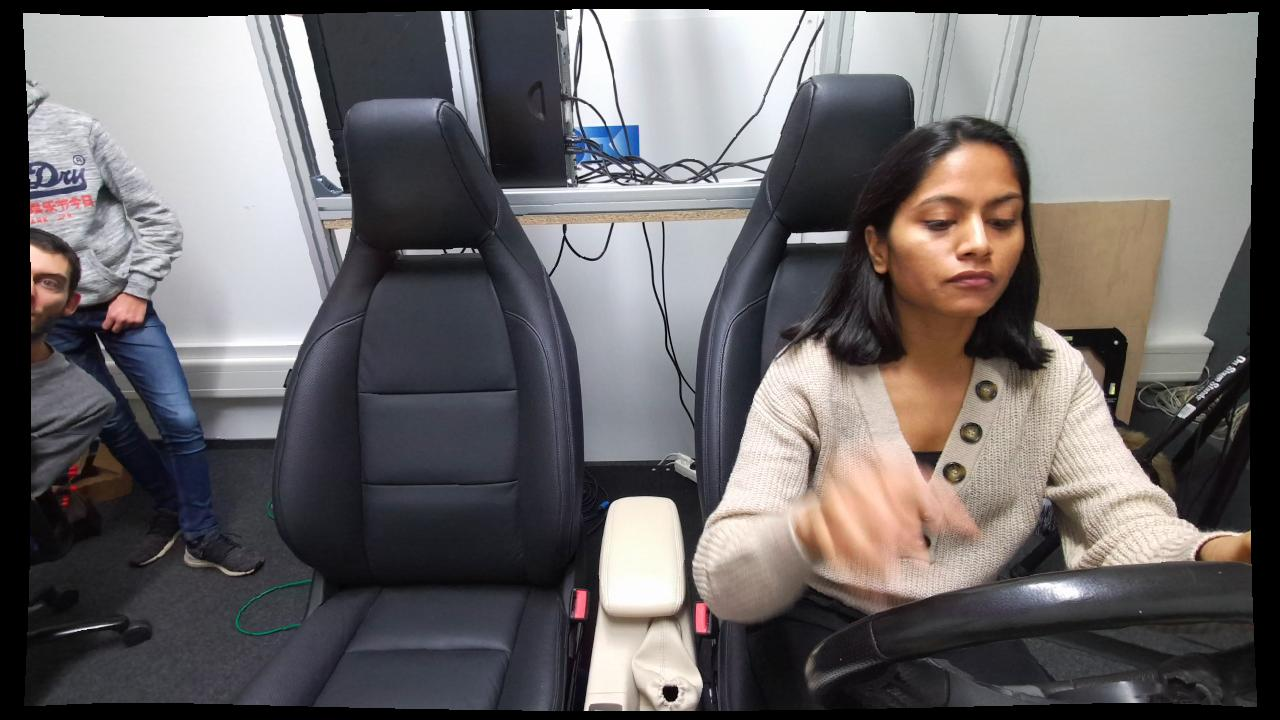Distracted: (693, 115, 1126, 712)
